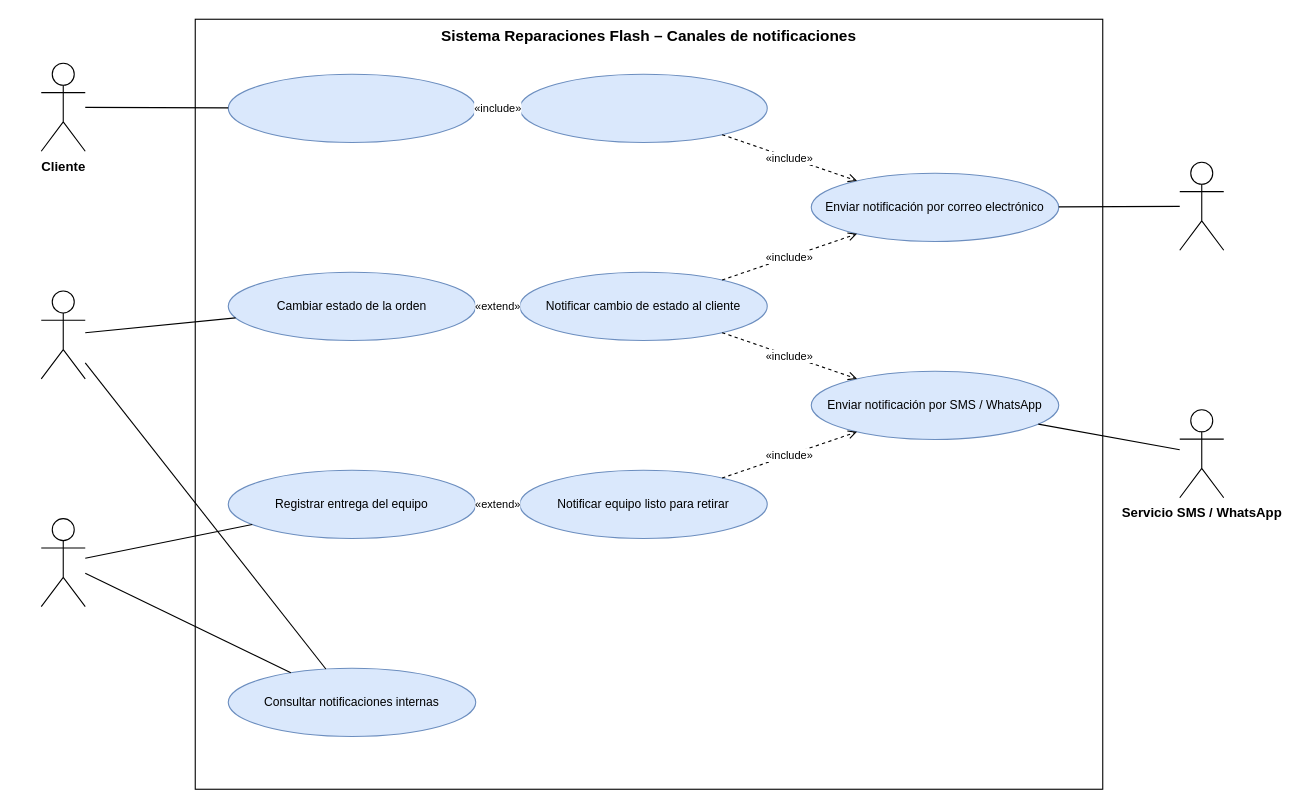
Image size: 1316x809. Some labels were removed from this diagram. Here are the shapes that lost their labels. From the top down, the box of each, then its label:
(227, 73, 476, 142): Aceptar o rechazar presupuesto
(519, 73, 767, 142): Notificar decisión del cliente a técnico y recepcionista
(1179, 161, 1224, 250): Servicio de correo electrónico
(40, 290, 85, 379): Técnico
(40, 518, 85, 607): Recepcionista
